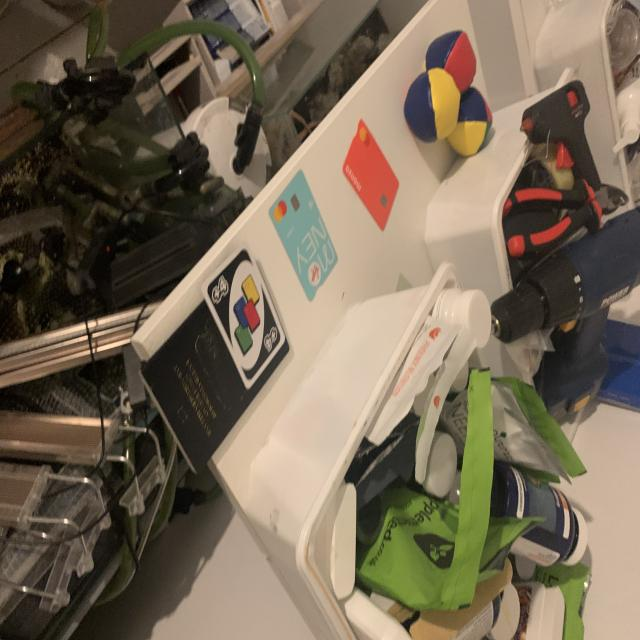lcolor-400: (209, 274, 232, 305)
